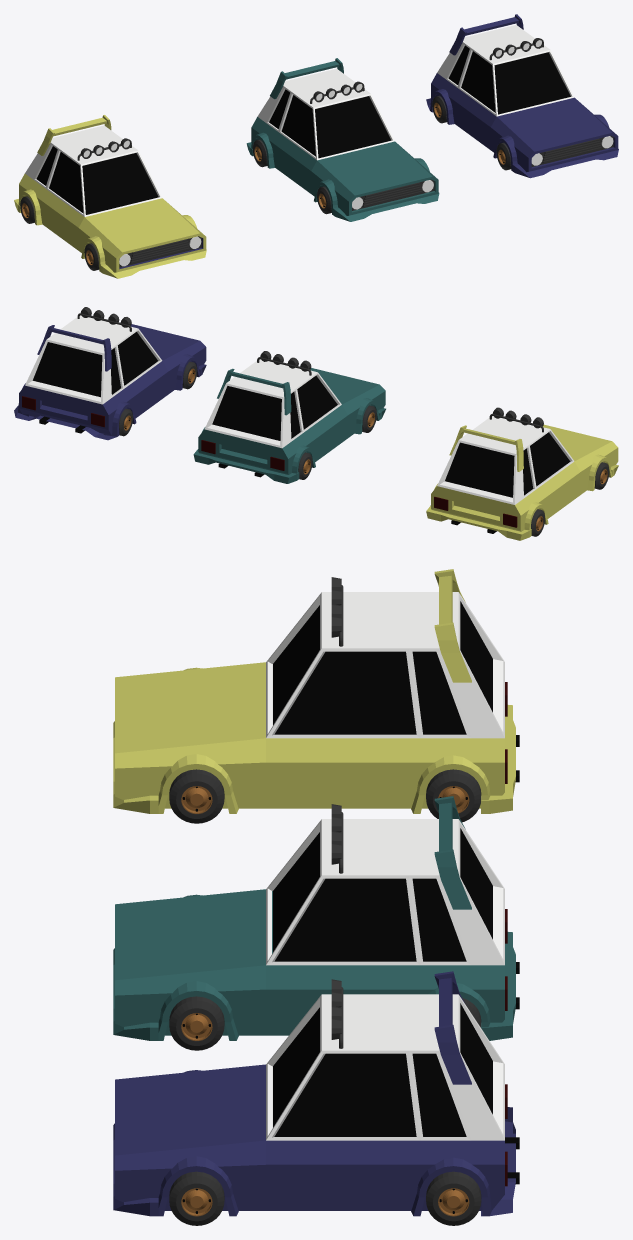
File: static_racecar.glb
3 renders of one model, top to bottom at view 1: azimuth 30°, elevation 25°; view 2: azimuth 150°, elevation 25°; view 3: azimuth 270°, elevation 25°, orthographic. The views are drawn at different scales.
Parts seen in each view (by area): view 1: car.001, car.002, car; view 2: car.002, car, car.001; view 3: car.001, car.002, car.
Part boxes in pixels (box(x1,y1,x2,y2)): car.001: box(426, 14, 618, 178); car.002: box(14, 115, 206, 278); car: box(246, 58, 439, 221); car.002: box(426, 407, 618, 540); car: box(193, 351, 385, 483); car.001: box(14, 307, 206, 440); car.001: box(113, 971, 519, 1225); car.002: box(113, 569, 519, 823); car: box(113, 796, 519, 1050).
Bounding box in the file's own units: 6.83 × 1.13 × 2.34.
1 material, 1 textured.
